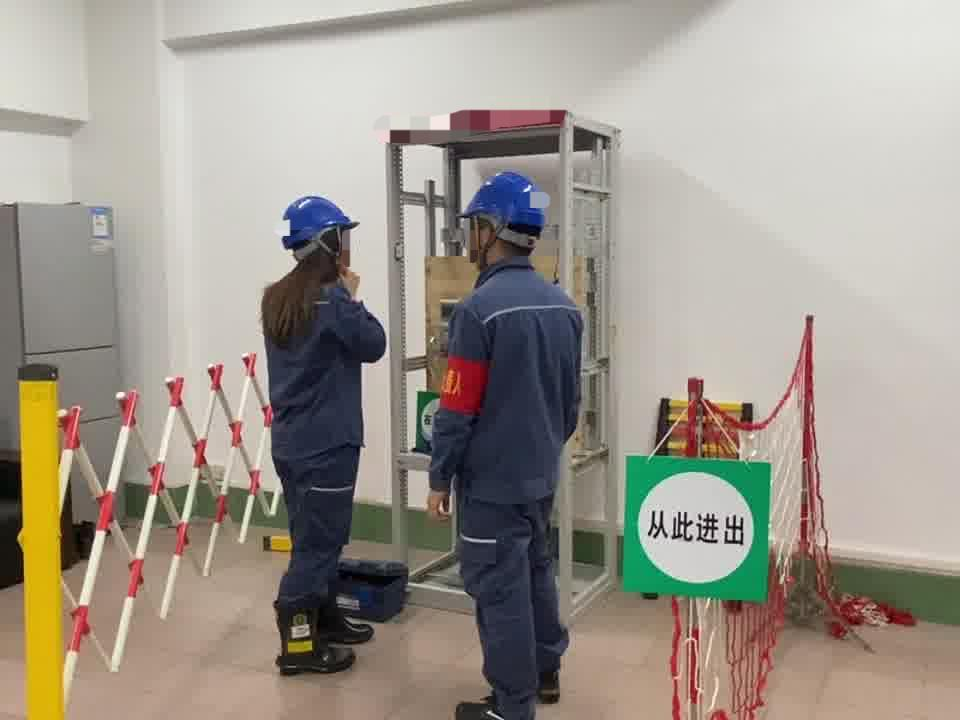halt: (460, 171, 551, 266)
inear: (470, 218, 506, 265)
